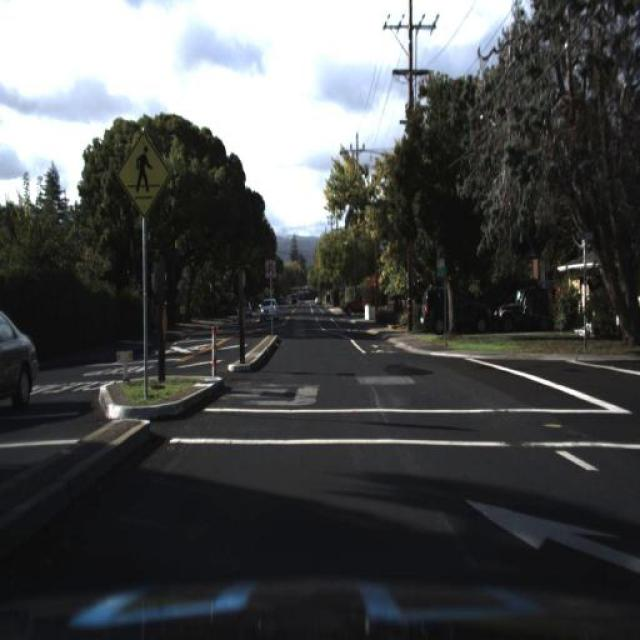car: (491, 273, 564, 339), (0, 308, 41, 423), (415, 277, 487, 339), (255, 292, 286, 331), (337, 291, 369, 320), (232, 291, 256, 321)
